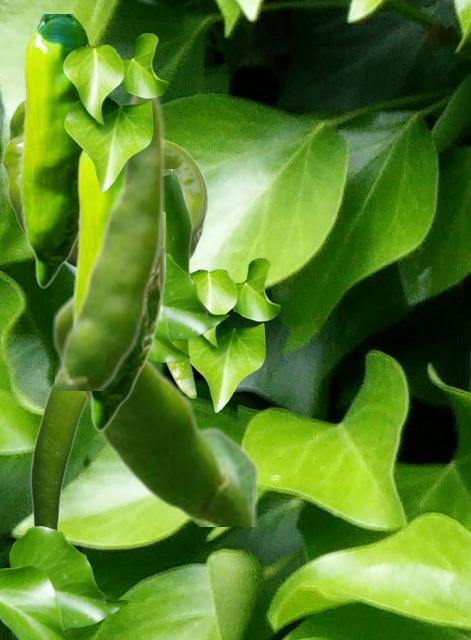green_chili: (51, 264, 256, 525), (2, 100, 207, 268), (55, 94, 166, 389), (72, 148, 164, 430), (19, 14, 93, 287), (30, 380, 86, 529), (163, 169, 195, 397)
